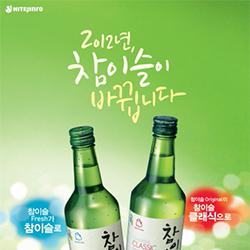soju: (55, 114, 187, 250)
